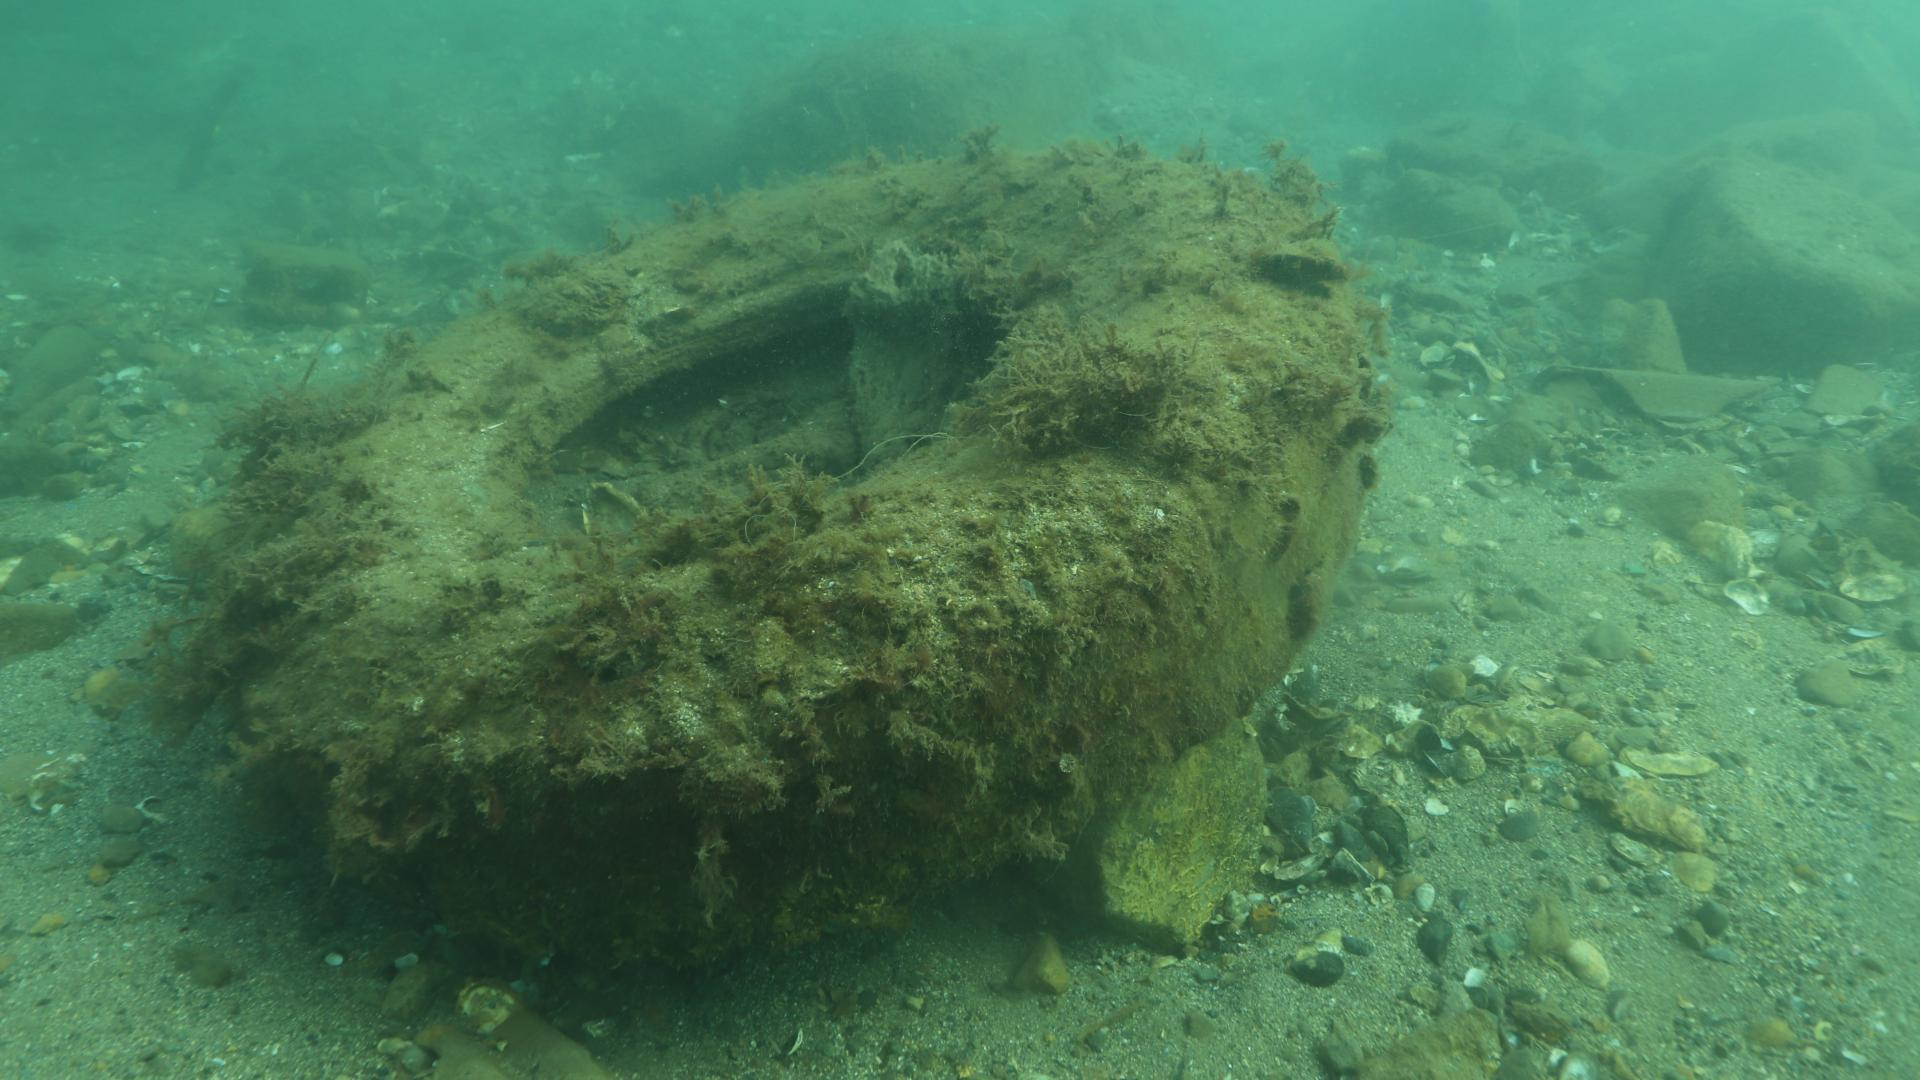tire: (282, 148, 1370, 967)
